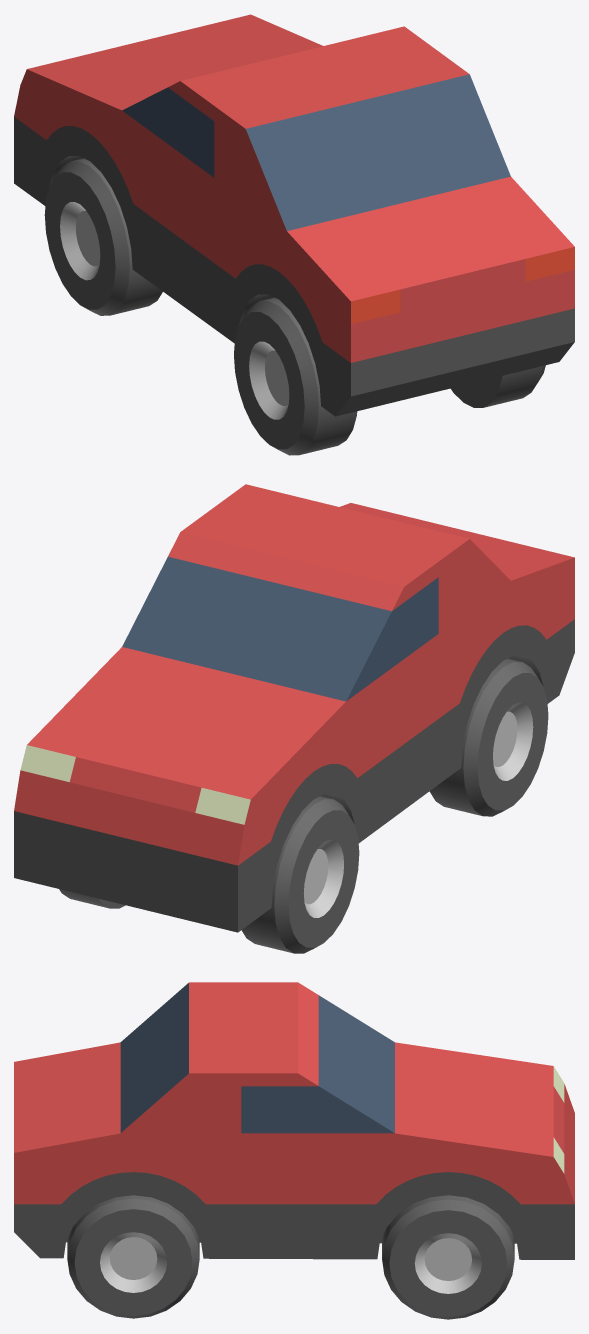
The model's file is carSedan.fbx.
3 renders of one model, top to bottom at view 1: azimuth 30°, elevation 25°; view 2: azimuth 150°, elevation 25°; view 3: azimuth 270°, elevation 25°, orthographic. The views are drawn at different scales.
Parts seen in each view (by area): view 1: body 7, wheelBackLeft 7, wheelFrontLeft 7, wheelBackRight 7; view 2: body 7, wheelBackLeft 7, wheelFrontLeft 7; view 3: body 7, wheelFrontRight 7, wheelBackRight 7.
Part boxes in pixels (box(x1,y1,x2,y2)): body 7: box(14, 14, 574, 416); wheelBackLeft 7: box(234, 297, 357, 455); wheelFrontLeft 7: box(44, 158, 162, 315); wheelBackRight 7: box(450, 365, 545, 407); body 7: box(14, 484, 574, 932); wheelBackLeft 7: box(429, 658, 548, 816); wheelFrontLeft 7: box(241, 796, 359, 953); body 7: box(14, 982, 574, 1259); wheelFrontRight 7: box(382, 1195, 514, 1319); wheelBackRight 7: box(67, 1195, 199, 1318).
Size of the model in its own units: 4.95 by 5.76 by 11.85.
